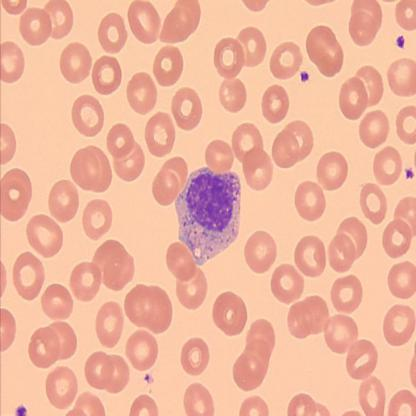Myelocyte: (177, 164, 240, 262)
